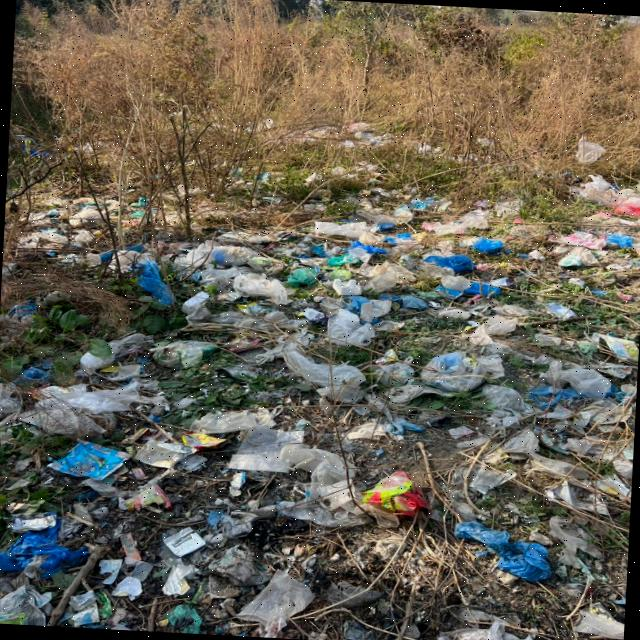garbage: (0, 173, 638, 640)
